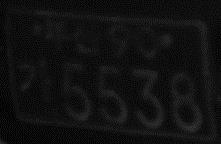0: (131, 23, 162, 64)
3: (127, 64, 167, 129)
5: (90, 62, 128, 128), (58, 59, 93, 126)
8: (167, 70, 204, 133)
9: (100, 19, 133, 62)
가: (15, 53, 56, 108)
부산_O: (39, 13, 102, 58)
